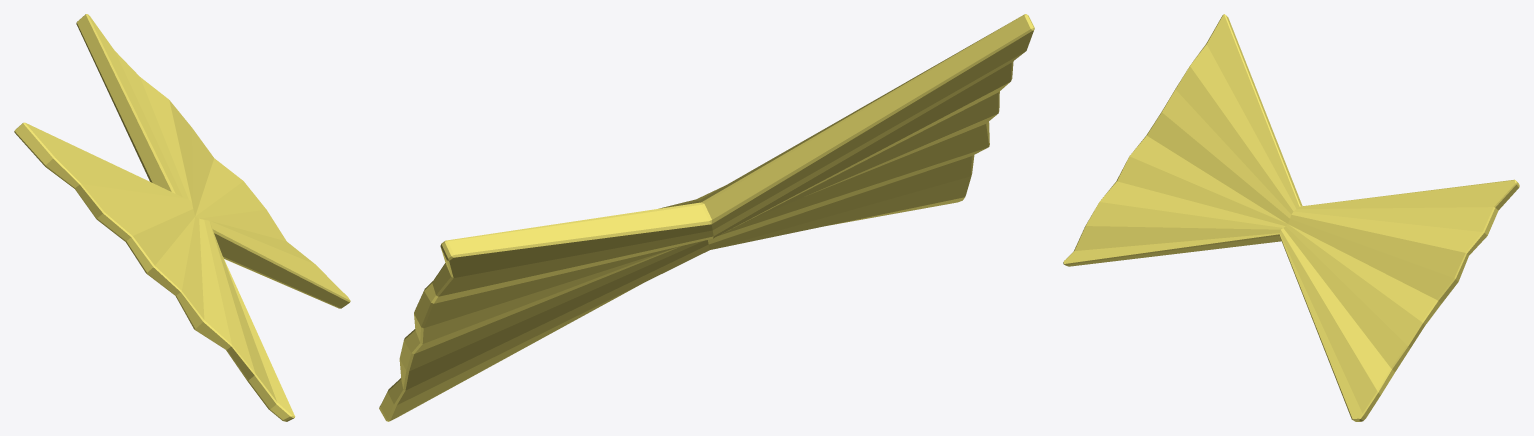
3 renders of one model, left to right at view 1: azimuth 30°, elevation 25°; view 2: azimuth 150°, elevation 25°; view 3: azimuth 270°, elevation 25°, orthographic. The views are drawn at different scales.
Parts seen in each view (by area): view 1: Plane.011; view 2: Plane.011; view 3: Plane.011.
Boxes of the visible parts, left/top/right/bottom form: Plane.011: left=14, top=14, right=350, bottom=421; Plane.011: left=379, top=14, right=1034, bottom=421; Plane.011: left=1063, top=14, right=1519, bottom=421.
Bounding box in the file's own units: 3.82 × 3.02 × 4.81.
